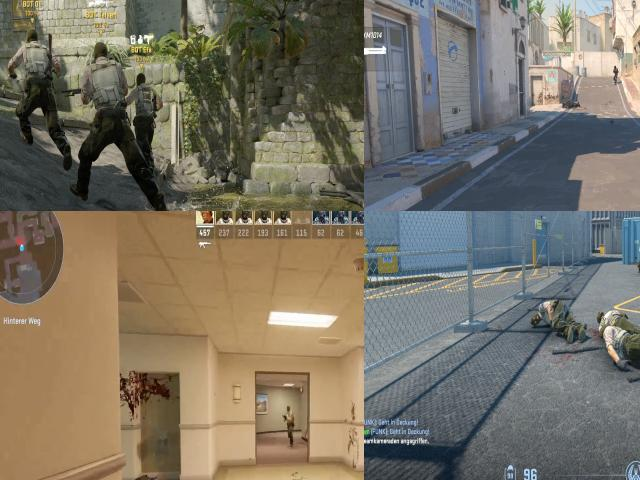Bomb: (141, 86, 154, 105)
CT: (614, 66, 618, 84)
CT-Head: (614, 67, 616, 69)
Dead: (595, 300, 640, 372), (530, 291, 583, 336), (601, 326, 640, 386), (113, 458, 176, 480), (563, 100, 579, 108)
T: (79, 41, 133, 198), (15, 22, 59, 150), (132, 65, 162, 176), (280, 402, 300, 432), (637, 238, 640, 276)
T-Head: (86, 41, 113, 66), (18, 25, 42, 51), (135, 70, 150, 86), (283, 404, 293, 414)
